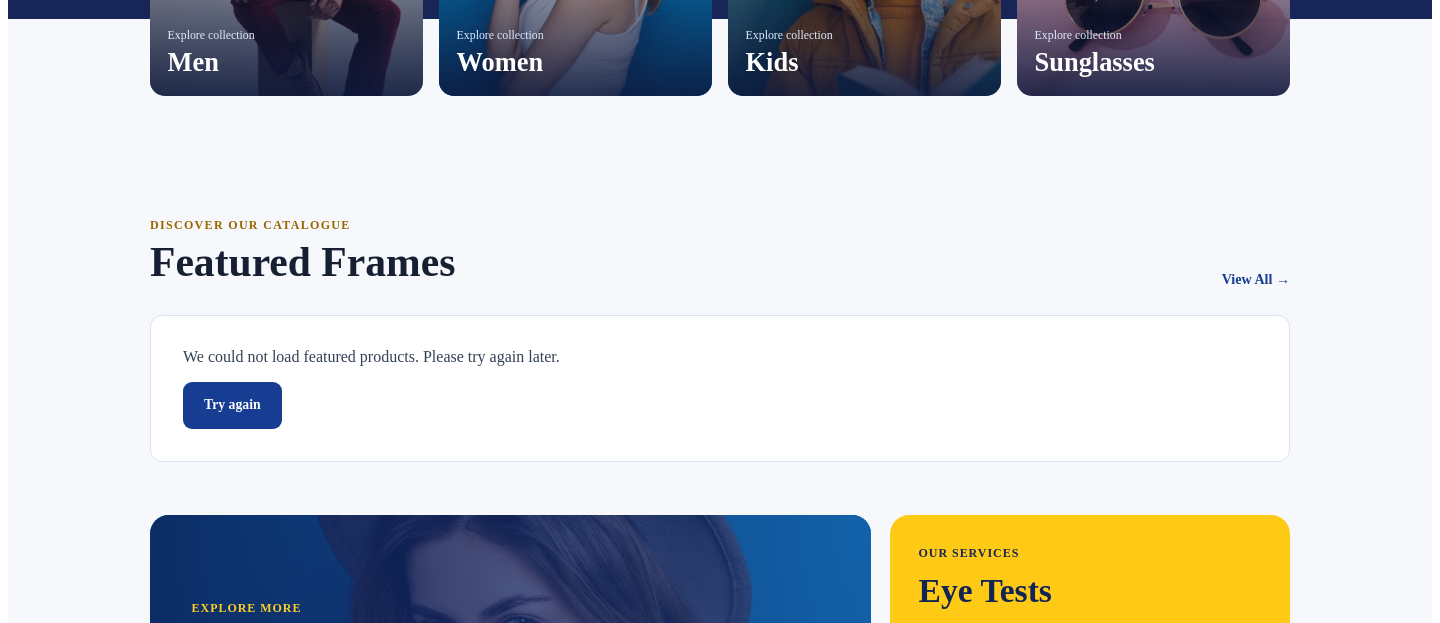
DDP-077 HomePage › handles API failure safely and retries without exposing raw error
(page scrolled)
expect the text "We could not load featured products. Please try again later." is shown: met, box [183,348,560,365]
Click the button "Try again" at (232, 405), box [183,382,282,429]
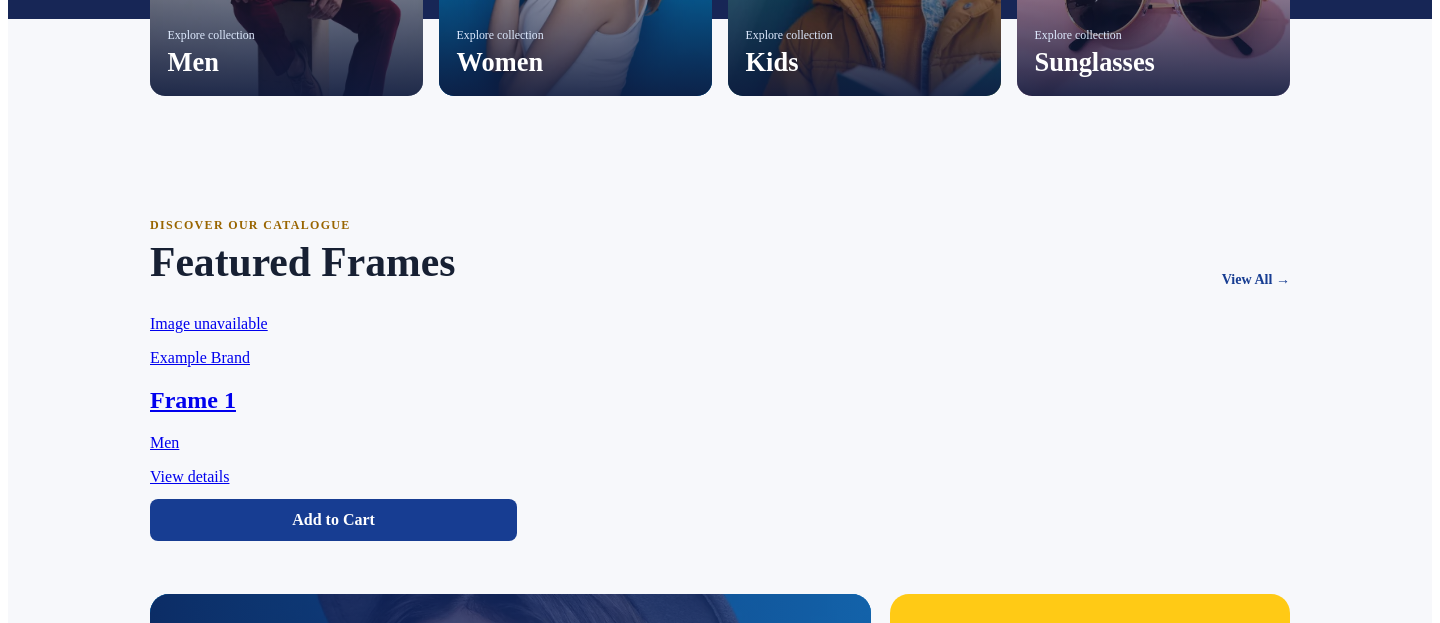
expect the heading "Frame 1" is shown: met, box [150,387,236,413]
